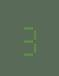three: (19, 20, 38, 56)
